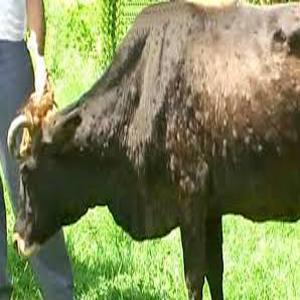lumpy skin diesease: (6, 0, 299, 299)
